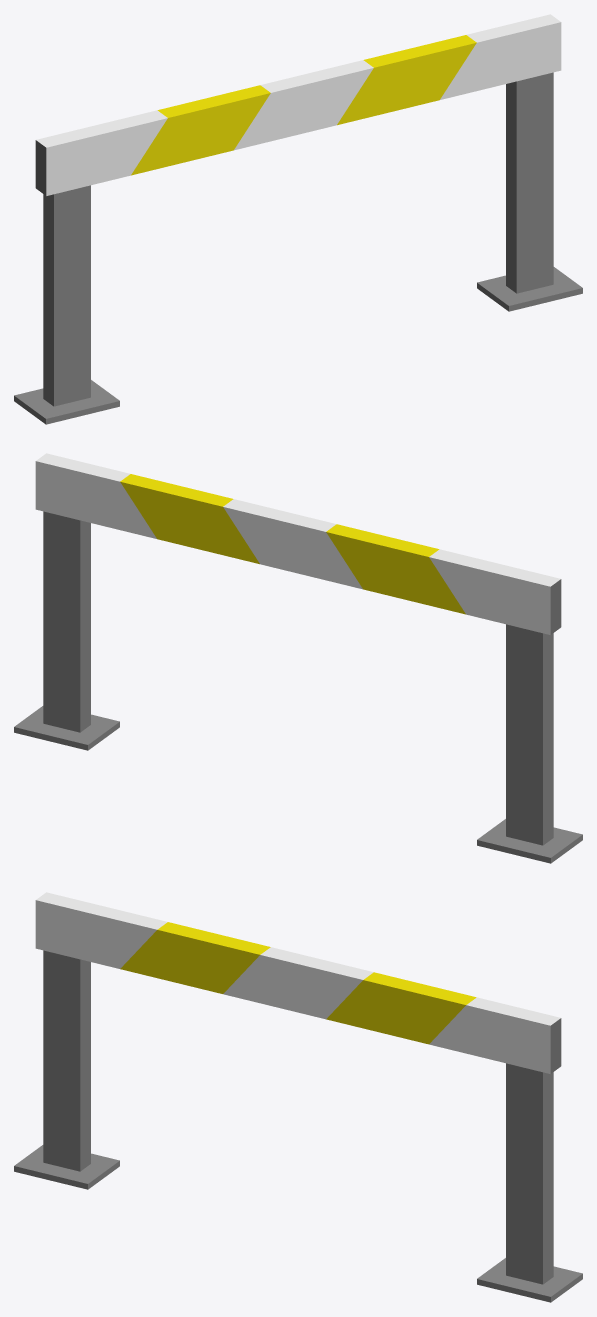
The model's file is Obstacle2.fbx.
3 views of the same model, one above another, from view 1: azimuth 30°, elevation 25°; view 2: azimuth 150°, elevation 25°; view 3: azimuth 330°, elevation 25° (orthographic).
Parts seen in each view (by area): view 1: Box009, Box008, Box007; view 2: Box009, Box008, Box007; view 3: Box009, Box007, Box008.
Part boxes in pixels (x1,y1,x2,y2): Box009: (35,14,561,195); Box008: (14,185,119,424); Box007: (477,72,582,311); Box009: (35,453,561,634); Box008: (477,624,582,863); Box007: (14,511,119,750); Box009: (35,892,561,1073); Box007: (477,1063,582,1302); Box008: (14,950,119,1189).
Size of the model in its own units: 114 by 11.81 by 54.13.
